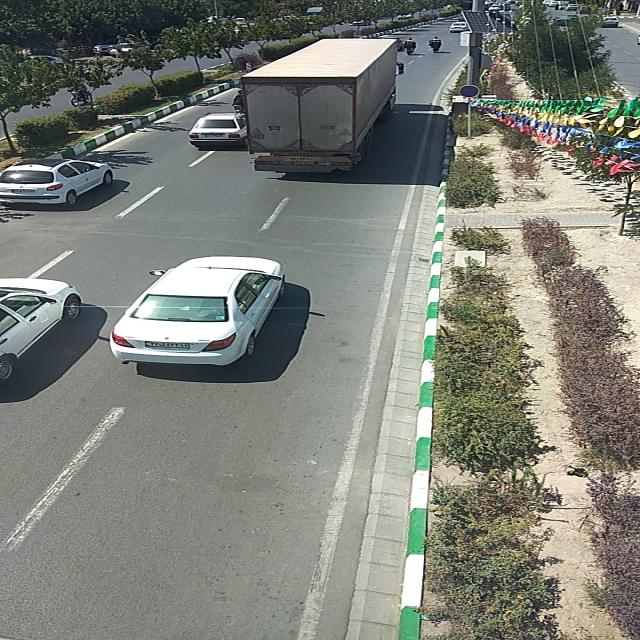car: (109, 256, 291, 366), (0, 276, 84, 382), (0, 157, 115, 207), (190, 112, 247, 150), (449, 20, 467, 36), (601, 18, 621, 27)
motor: (398, 38, 420, 56), (428, 36, 446, 56)
truck: (240, 38, 406, 173)
